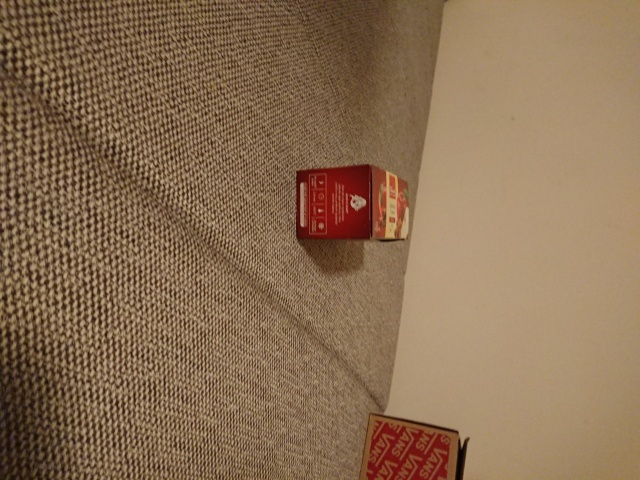Franck Apple Cinnamon Tea 60g: (292, 161, 412, 246)
